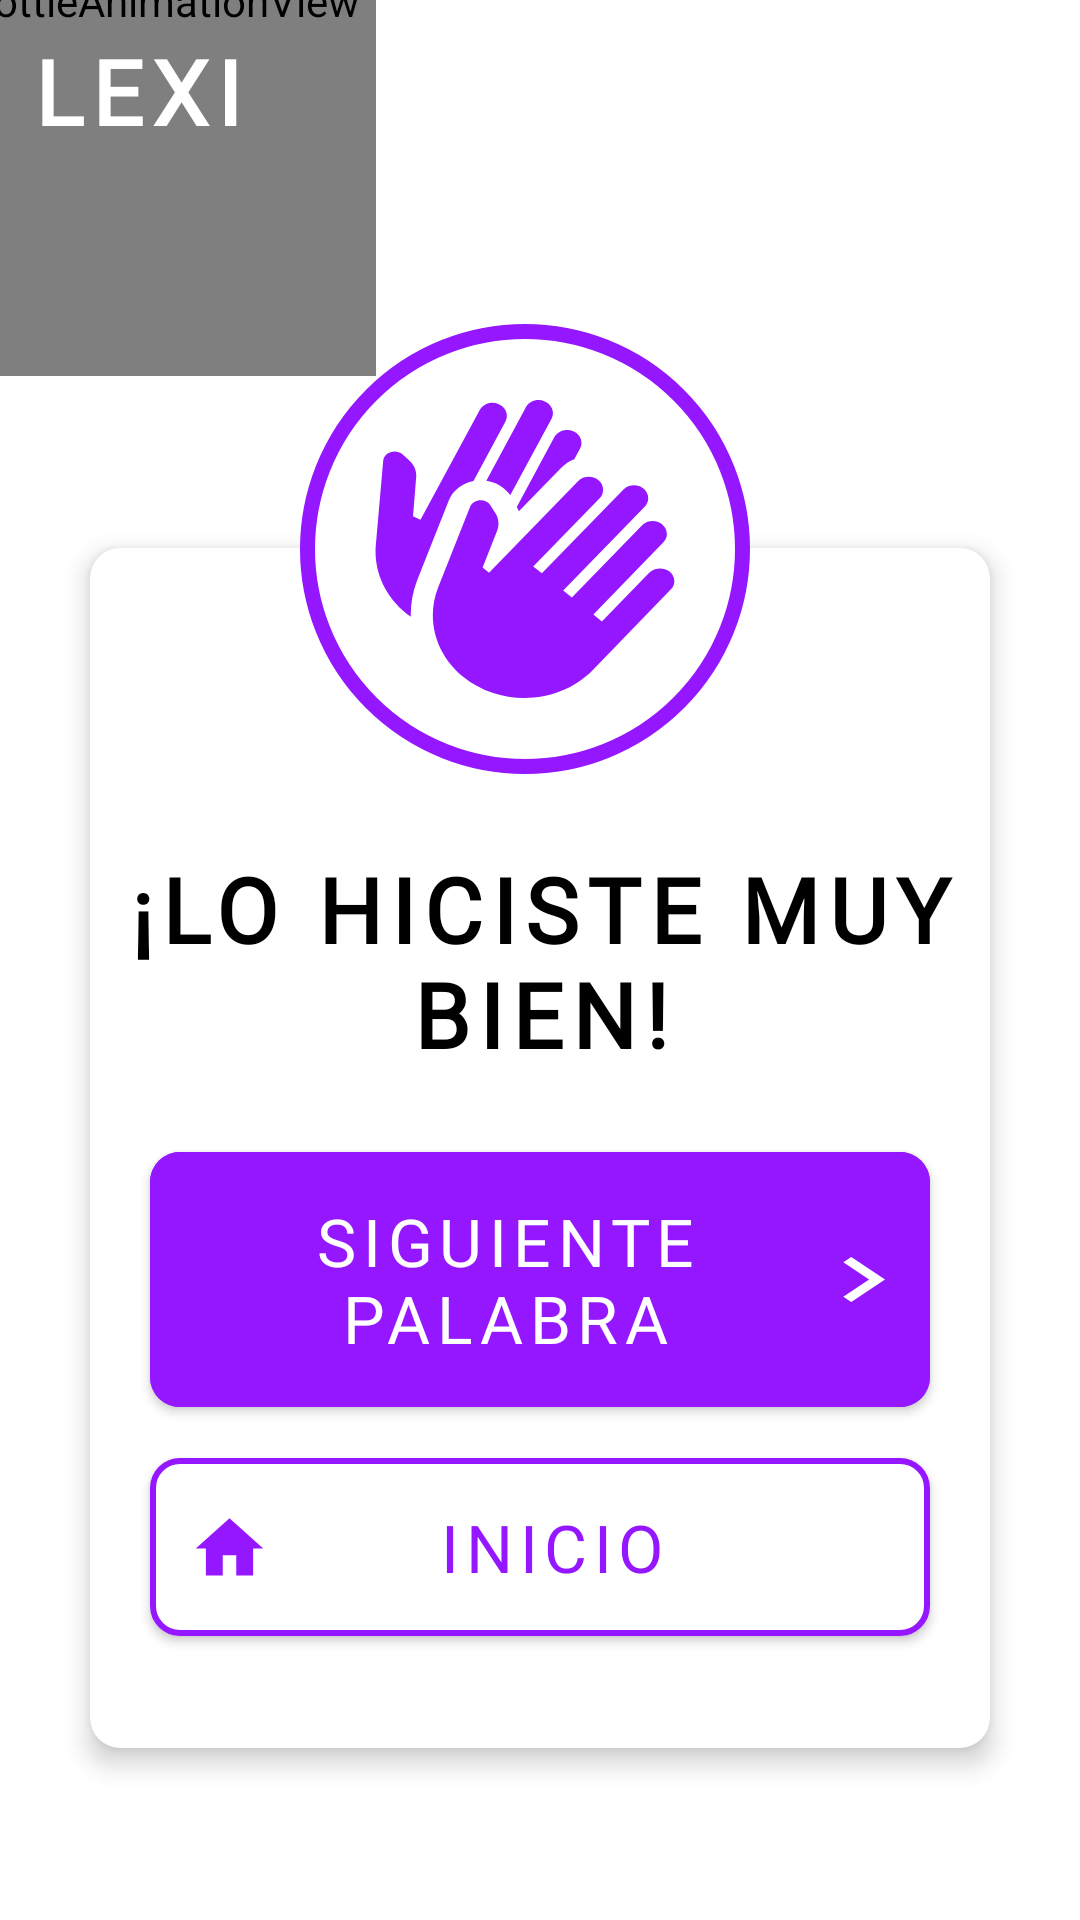

Locate icon controls on the screen. Image size 1080*1920, boxes as (left=x1, top=y1, right=x2, bottom=y2).
claps: (left=375, top=400, right=675, bottom=698)
